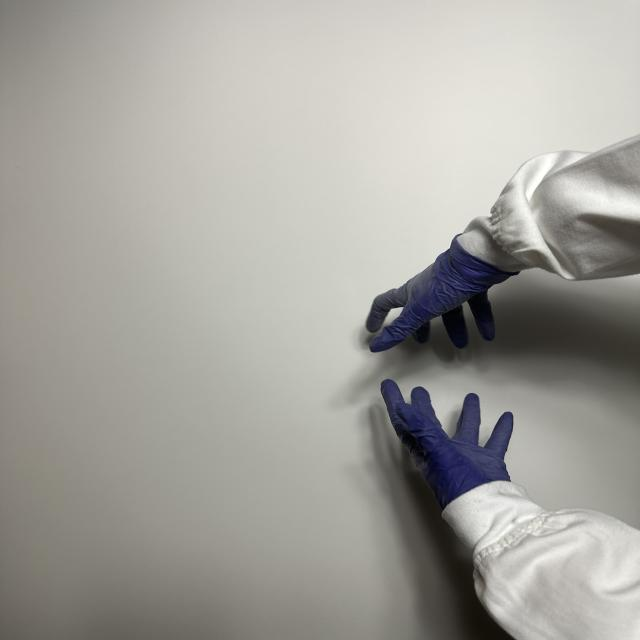gloves_contaminated: (381, 380, 513, 510), (366, 239, 516, 352)
